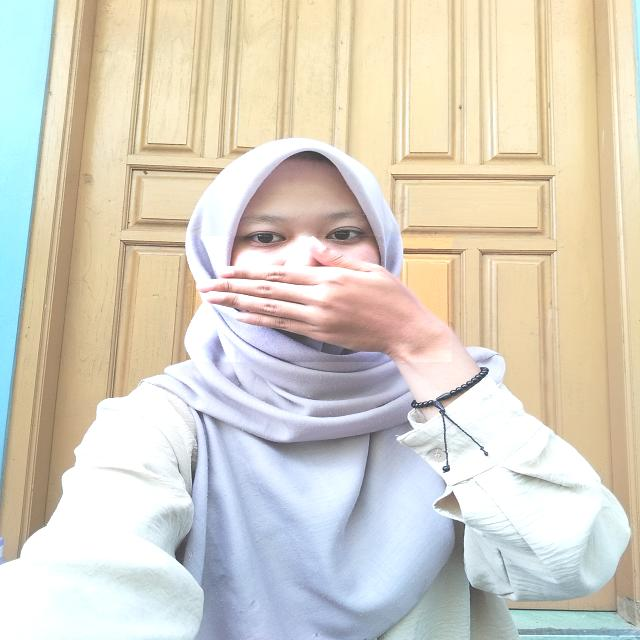buruk: (186, 236, 452, 362)
